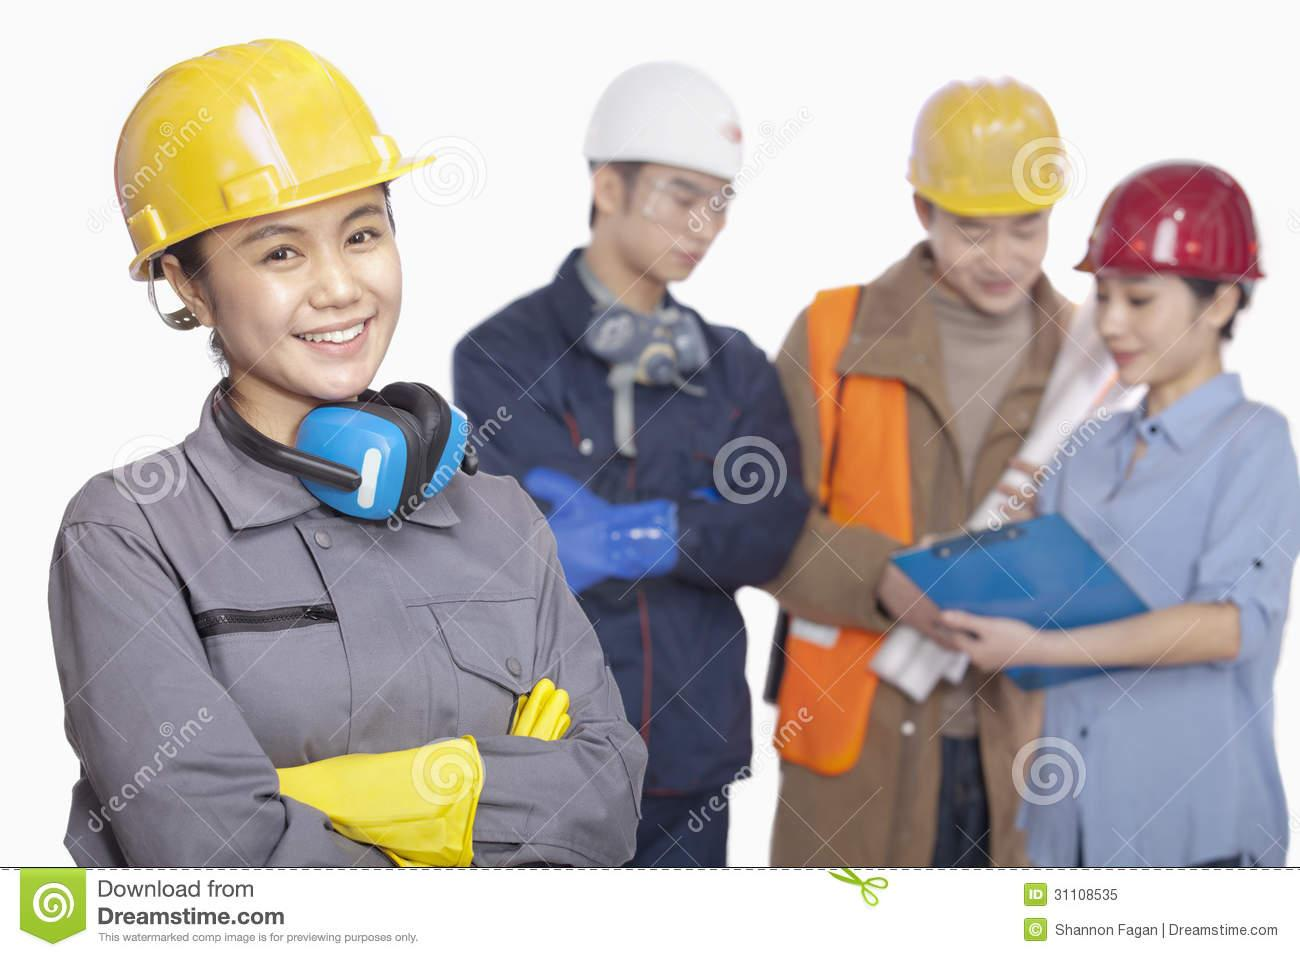helmet: (111, 36, 440, 286), (1075, 159, 1271, 294), (904, 73, 1075, 219), (584, 59, 753, 196)
